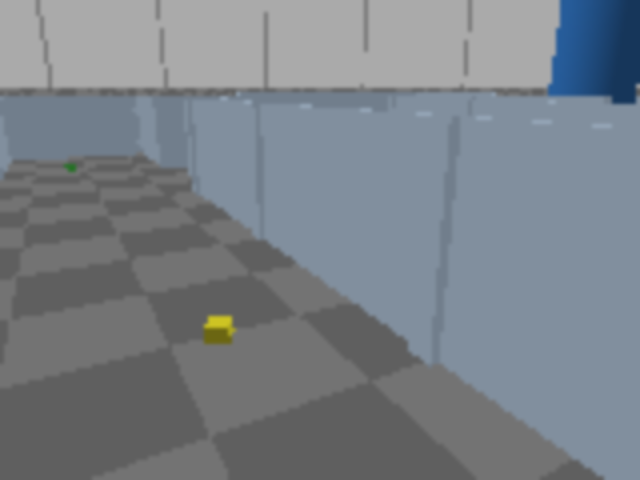puck: (205, 316, 234, 343)
